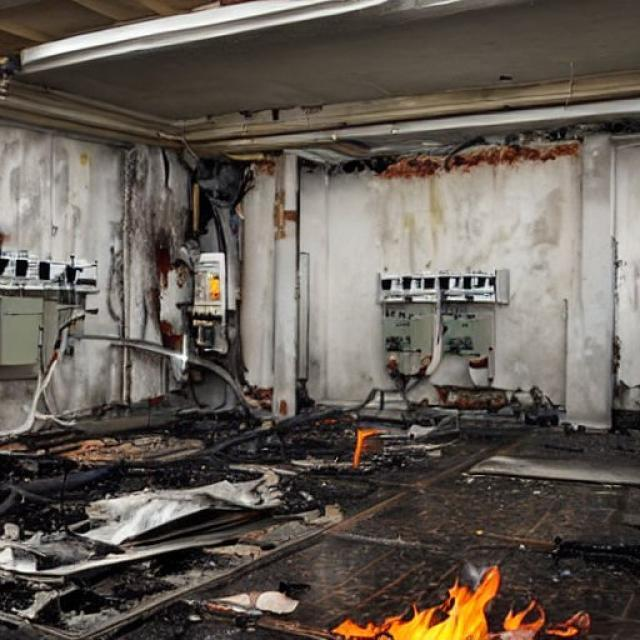Fire: (338, 573, 574, 640)
